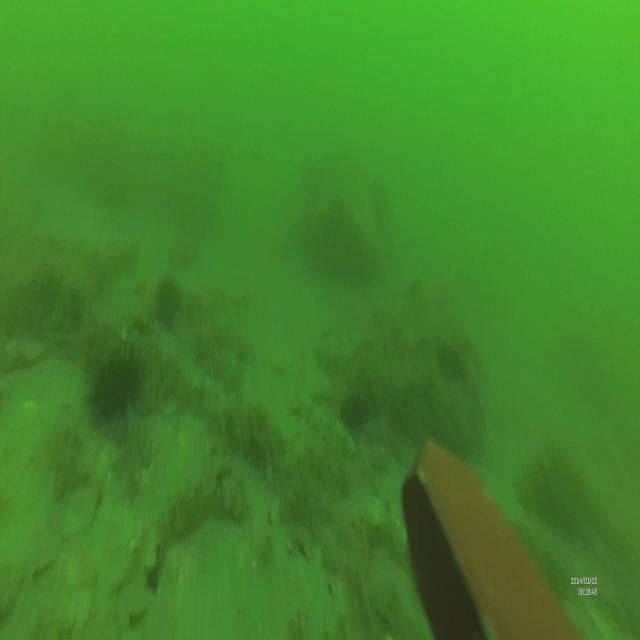echinus: (88, 339, 151, 438), (152, 272, 184, 336), (338, 386, 372, 446)
